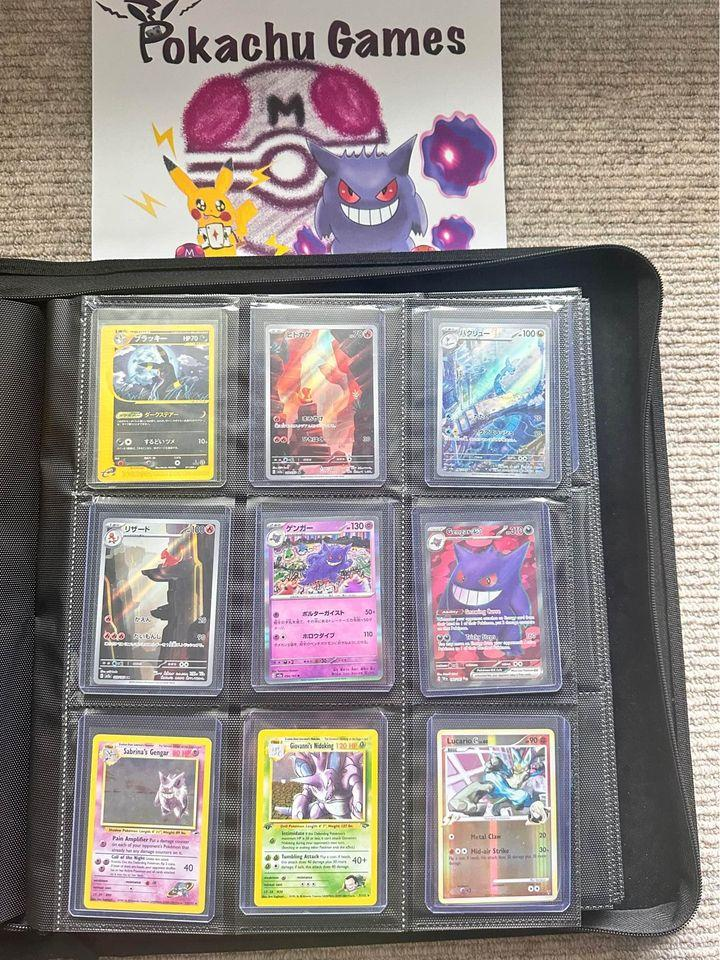card: (82, 734, 214, 916), (254, 729, 380, 912), (437, 726, 561, 905), (422, 519, 551, 690), (91, 519, 221, 688), (264, 516, 386, 688), (98, 321, 218, 490), (265, 324, 385, 482), (435, 321, 554, 480)
